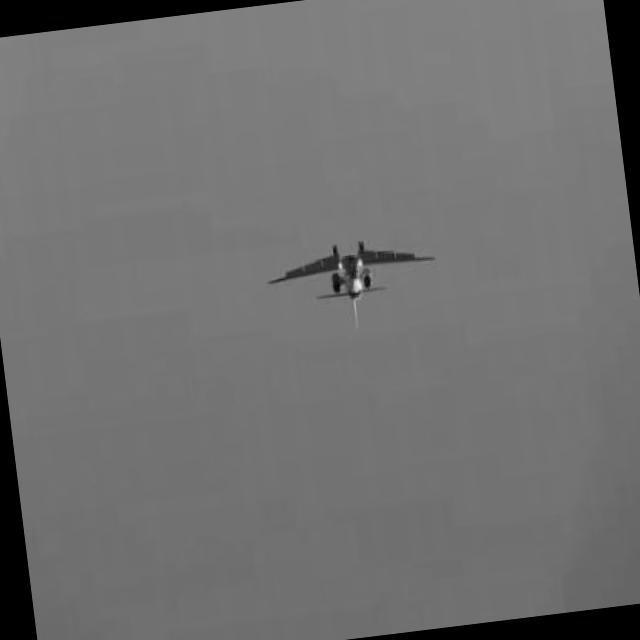aeroplane: (262, 228, 445, 335)
